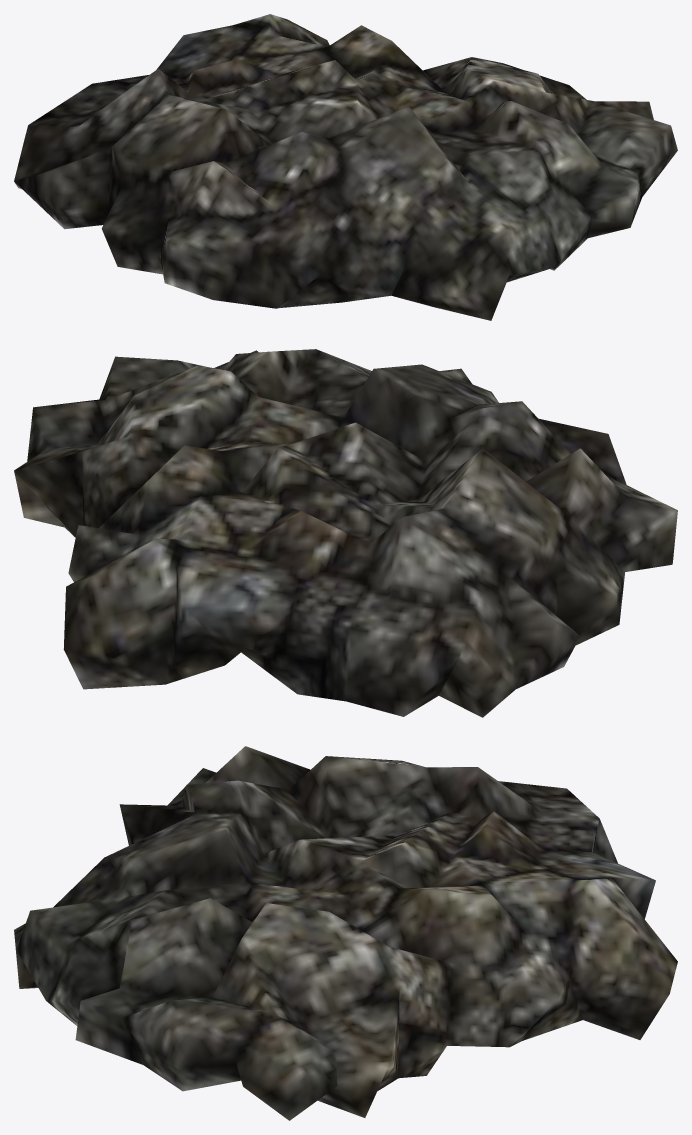
File: Rock3.fbx
3 renders of one model, top to bottom at view 1: azimuth 30°, elevation 25°; view 2: azimuth 150°, elevation 25°; view 3: azimuth 270°, elevation 25°, orthographic. The views are drawn at different scales.
Visible parts, largest first — view 1: Rock3_500tris_Group26426; view 2: Rock3_500tris_Group26426; view 3: Rock3_500tris_Group26426.
Boxes of the visible parts, bbox=[...] form: Rock3_500tris_Group26426: bbox=[14, 14, 677, 320]; Rock3_500tris_Group26426: bbox=[14, 349, 677, 717]; Rock3_500tris_Group26426: bbox=[14, 746, 677, 1120].
Bounding box in the file's own units: 6.31 × 1.77 × 6.08.
